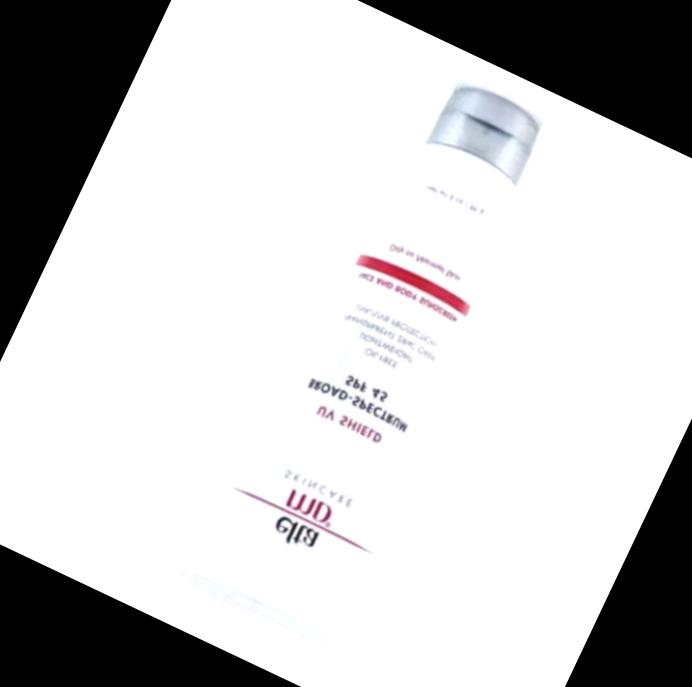cosmetic: (169, 56, 589, 664)
